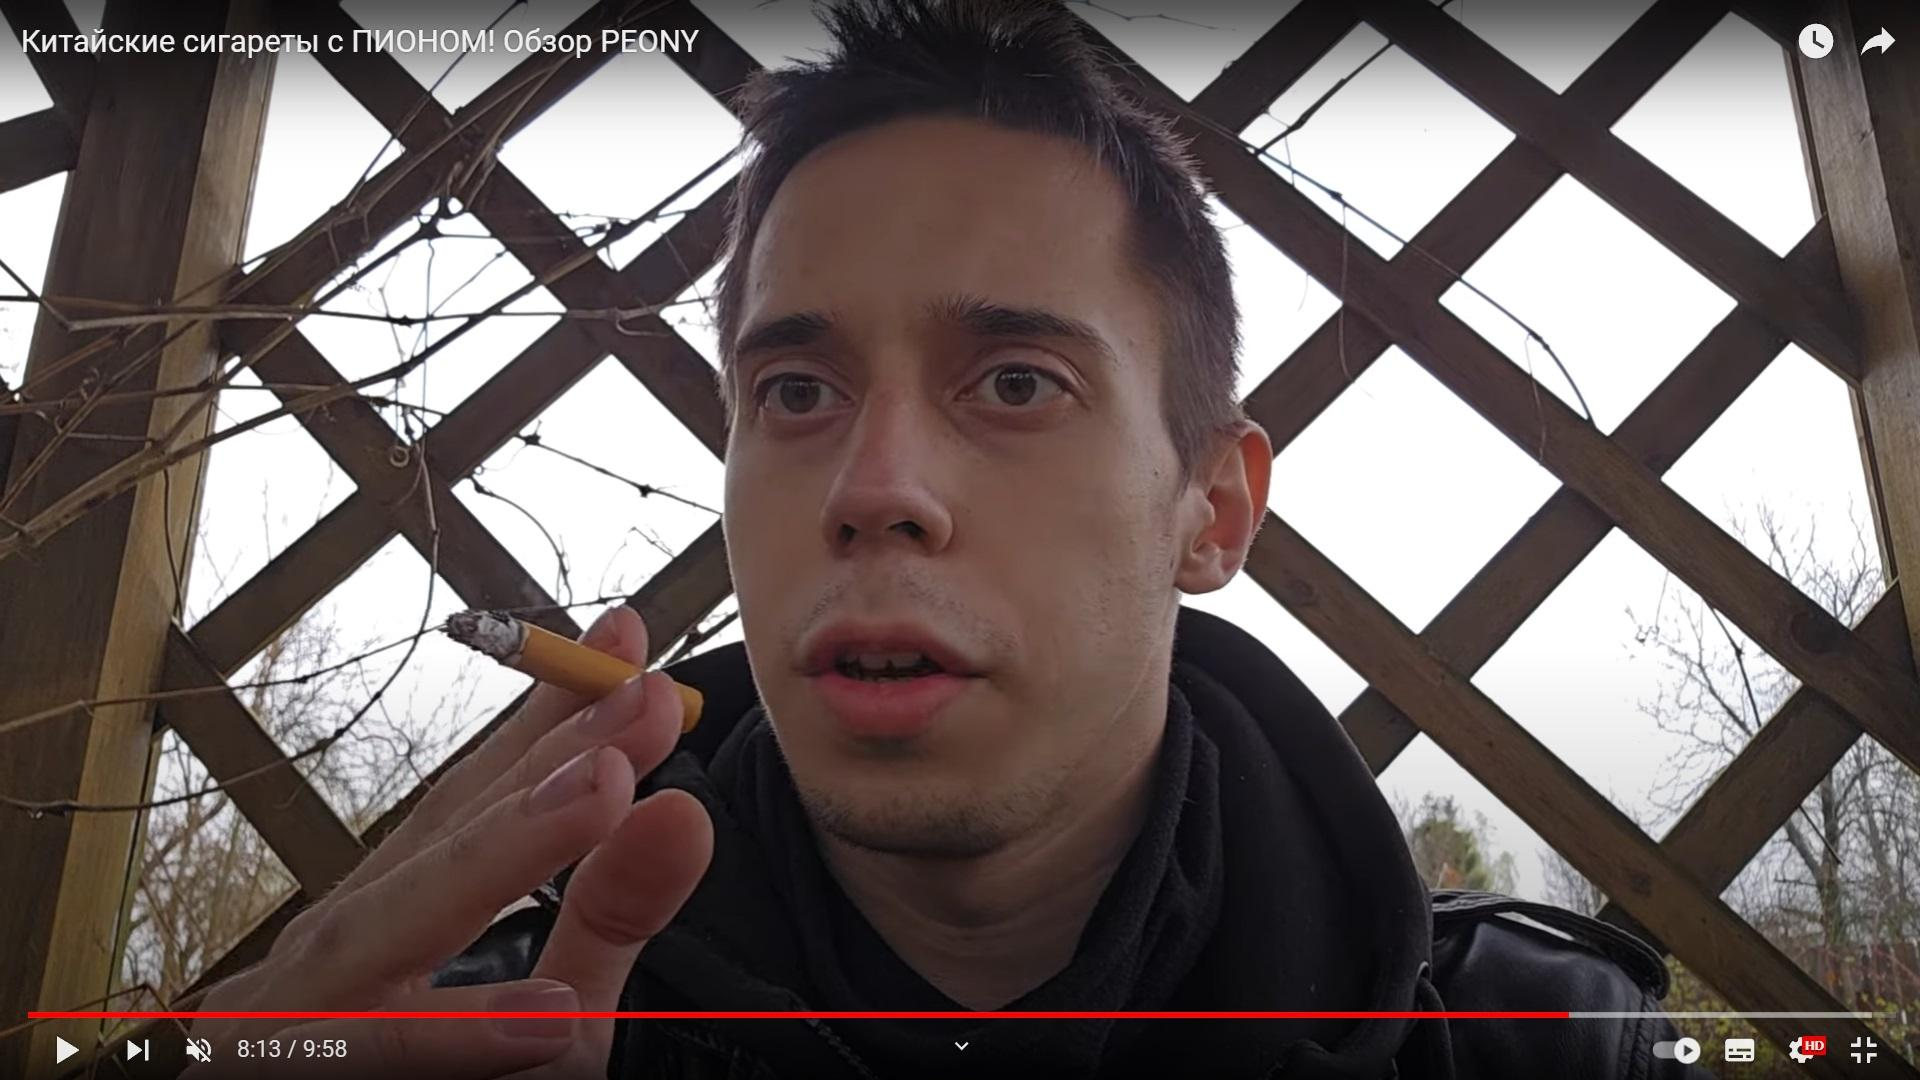cigarette: (447, 609, 705, 735)
